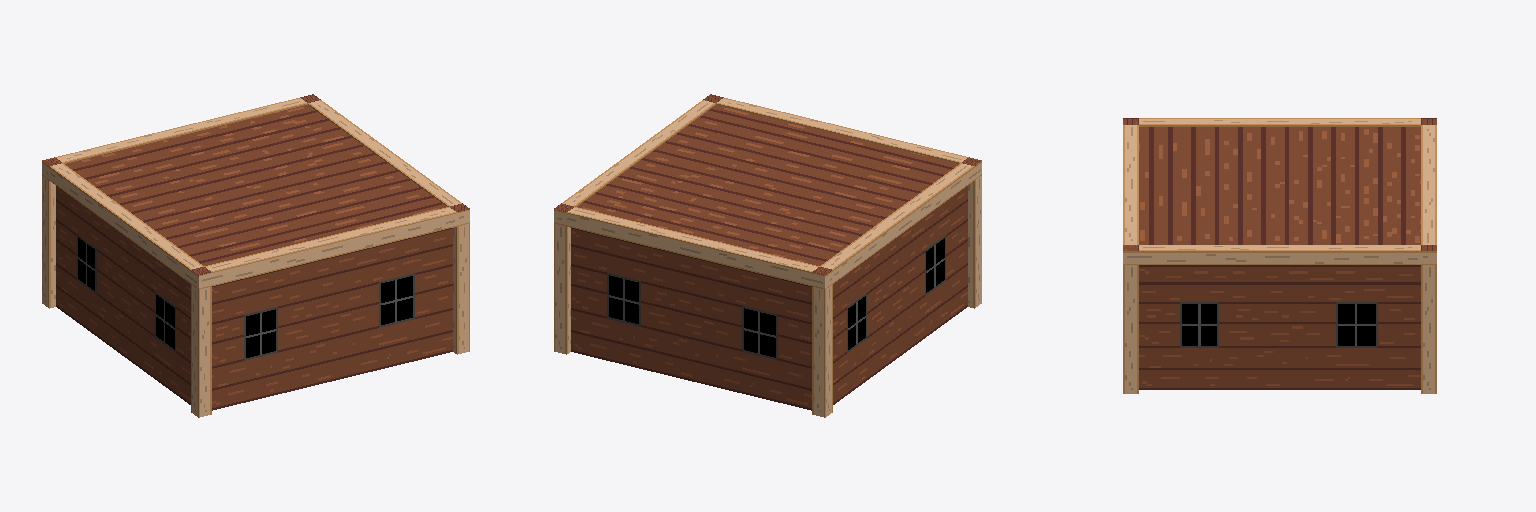
The picture shows the model from 3 angles: view 1: azimuth 30°, elevation 25°; view 2: azimuth 150°, elevation 25°; view 3: azimuth 270°, elevation 25°; orthographic projection.
Parts seen in each view (by area): view 1: Cube, Cube.001; view 2: Cube, Cube.001; view 3: Cube, Cube.001.
Boxes of the visible parts, <box> form: Cube: <box>56,105,452,410</box>; Cube.001: <box>42,94,469,417</box>; Cube: <box>571,105,967,410</box>; Cube.001: <box>554,94,981,417</box>; Cube: <box>1139,127,1420,389</box>; Cube.001: <box>1123,118,1436,393</box>.
Bounding box in the file's own units: 2 × 1 × 2.
2 materials, 1 textured.